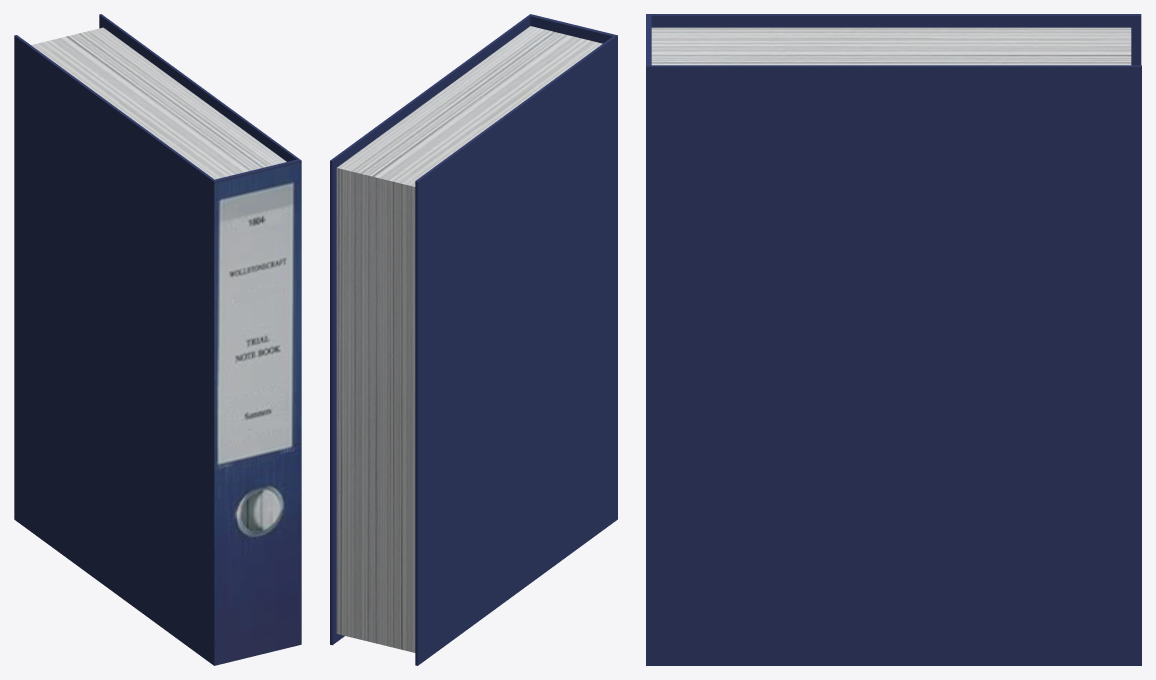
3 renders of one model, left to right at view 1: azimuth 30°, elevation 25°; view 2: azimuth 150°, elevation 25°; view 3: azimuth 270°, elevation 25°, orthographic. The views are drawn at different scales.
Parts seen in each view (by area): view 1: File 3; view 2: File 3; view 3: File 3.
Boxes of the visible parts, x1,y1,x2,y2 form: File 3: (14, 14, 301, 665); File 3: (330, 14, 617, 665); File 3: (646, 14, 1141, 665).
Bounding box in the file's own units: 6.46 × 34.2 × 25.64.
Materials: 1 (1 with a texture image).
